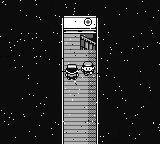main: (81, 62, 95, 75)
no-caminable: (1, 0, 160, 143), (64, 17, 96, 33)
npc: (65, 65, 79, 80)
puerta: (80, 34, 96, 50)
